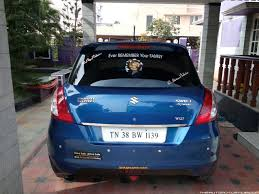T: (108, 130, 114, 140)
